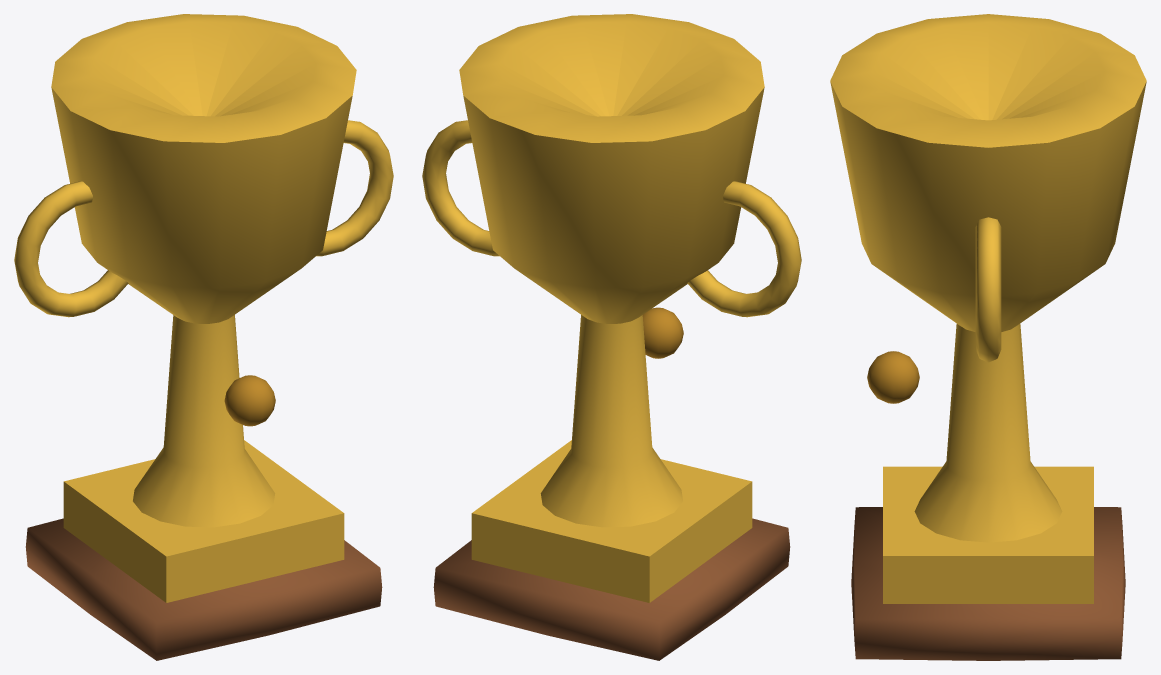
File: trophy.glb
The picture shows the model from 3 angles, left to right: view 1: azimuth 30°, elevation 25°; view 2: azimuth 150°, elevation 25°; view 3: azimuth 270°, elevation 25°; orthographic projection. The views are drawn at different scales.
Visible parts, largest first — view 1: root; view 2: root; view 3: root.
Part boxes in pixels (<box>): root: <box>14,14,393,660</box>; root: <box>422,14,801,660</box>; root: <box>830,14,1146,660</box>.
Bounding box in the file's own units: 0.424 × 0.56 × 0.3.
